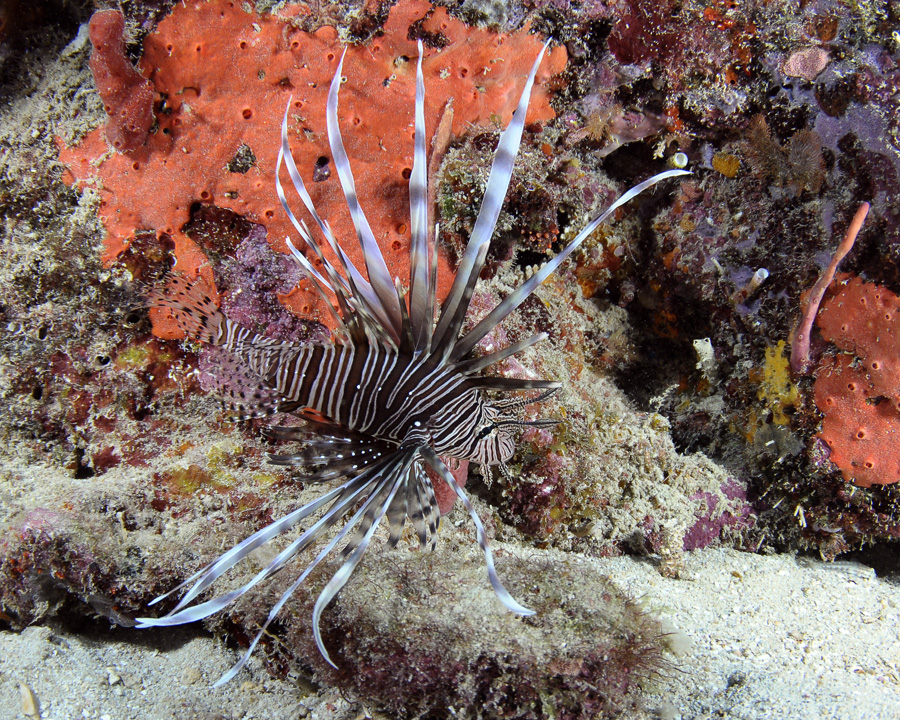Pterois_volitans: (141, 41, 623, 626)
